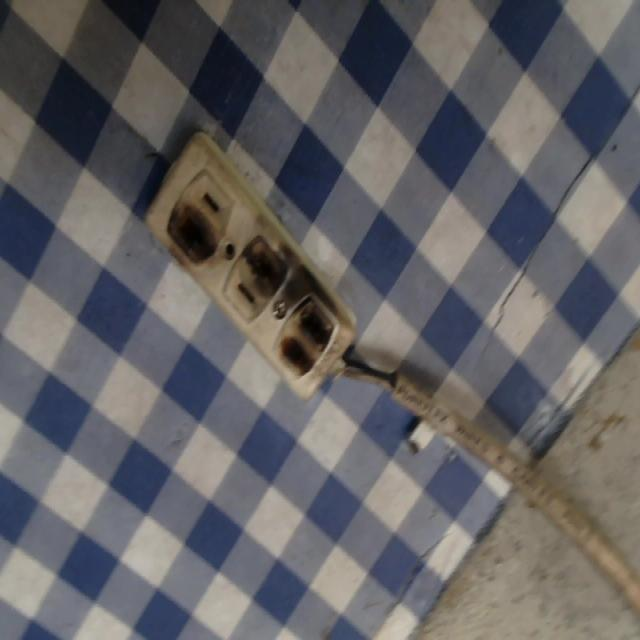-: (273, 291, 337, 380), (156, 187, 218, 273), (236, 221, 287, 295)
